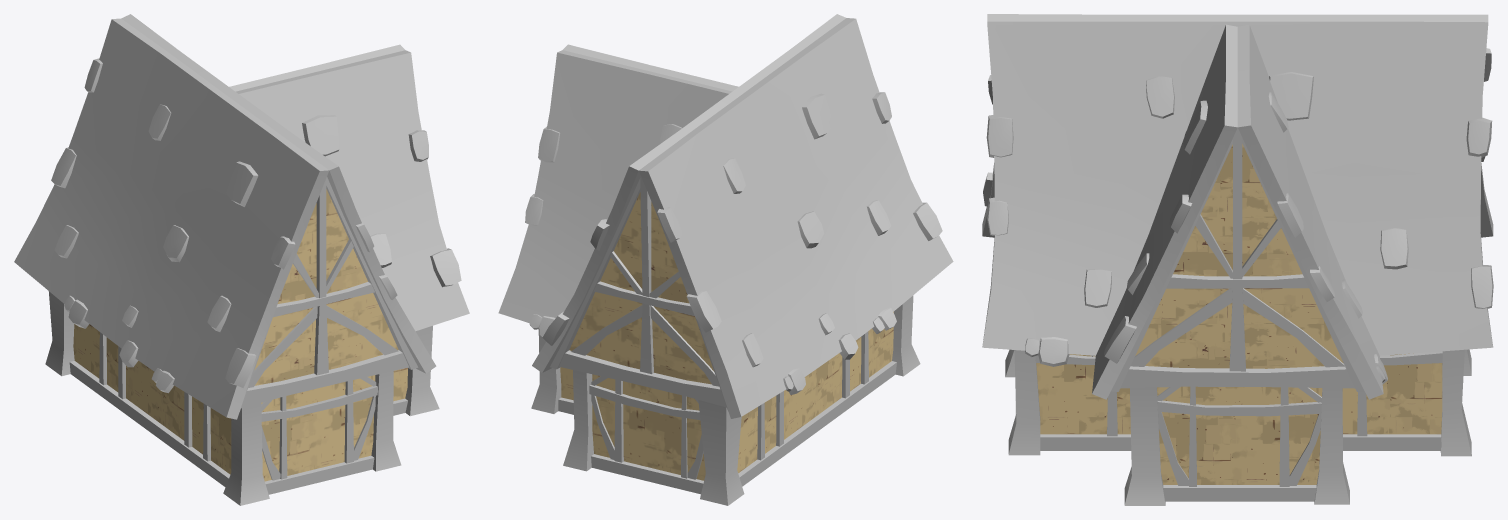
Rendered from SM_BLD_body_v05_02.fbx.
3 renders of one model, left to right at view 1: azimuth 30°, elevation 25°; view 2: azimuth 150°, elevation 25°; view 3: azimuth 270°, elevation 25°, orthographic. The views are drawn at different scales.
Visible parts, largest first — view 1: SM_BLD_body_v05_02; view 2: SM_BLD_body_v05_02; view 3: SM_BLD_body_v05_02.
Boxes of the visible parts, left/top/right/bottom form: SM_BLD_body_v05_02: left=14, top=14, right=469, bottom=505; SM_BLD_body_v05_02: left=498, top=14, right=953, bottom=505; SM_BLD_body_v05_02: left=982, top=14, right=1493, bottom=505.
Bounding box in the file's own units: 1024 × 1078 × 1288.
